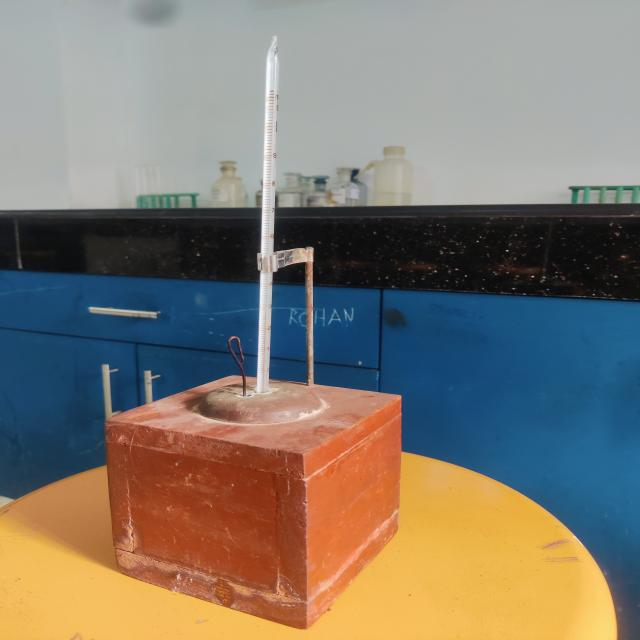Calorimeter: (77, 2, 444, 640)
